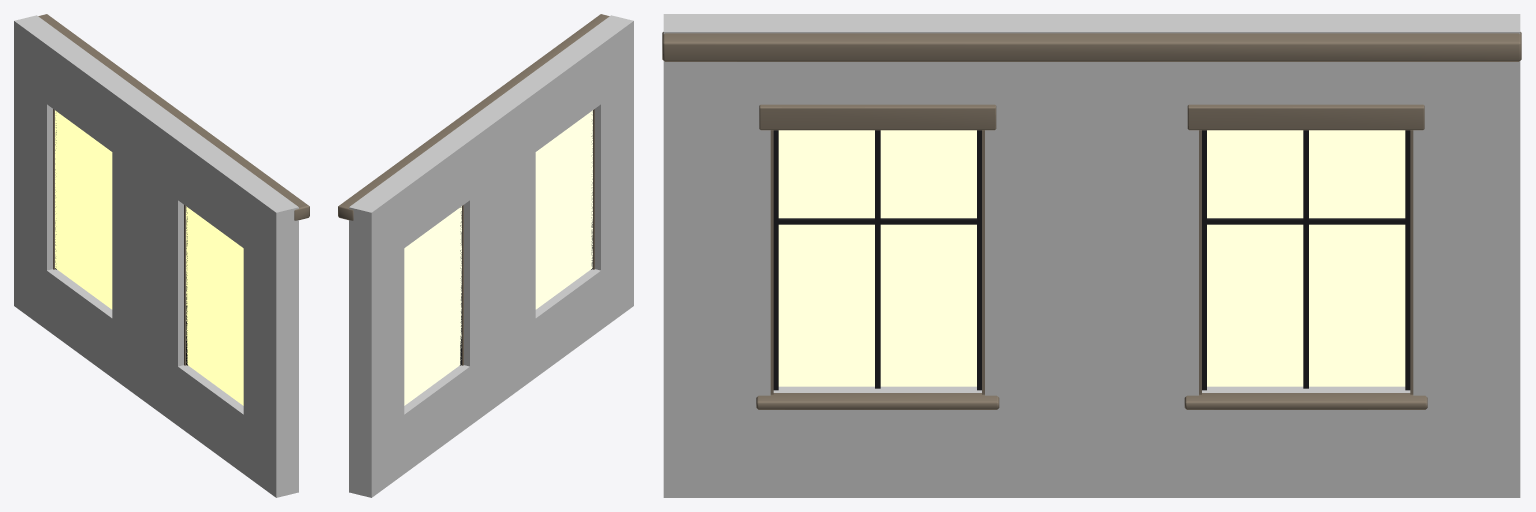
The model's file is facade_bay.glb.
The picture shows the model from 3 angles, left to right: view 1: azimuth 30°, elevation 25°; view 2: azimuth 150°, elevation 25°; view 3: azimuth 270°, elevation 25°; orthographic projection. The views are drawn at different scales.
Parts seen in each view (by area): view 1: Mesh_WallAbove, Mesh_WallBelow, Mesh_PierM, Mesh_PierR, Mesh_PaneL, Mesh_PaneR, Mesh_PierL, Mesh_Cornice; view 2: Mesh_WallAbove, Mesh_WallBelow, Mesh_PierM, Mesh_PierL, Mesh_PaneR, Mesh_PaneL, Mesh_PierR, Mesh_Cornice; view 3: Mesh_WallBelow, Mesh_WallAbove, Mesh_PierM, Mesh_PaneL, Mesh_PaneR, Mesh_PierL, Mesh_PierR, Mesh_Cornice, Mesh_LintelL, Mesh_LintelR, Mesh_SillL, Mesh_SillR (+10 smaller).
Boxes of the visible parts, left/top/right/bottom form: Mesh_WallAbove: left=14, top=15, right=298, bottom=271; Mesh_WallBelow: left=14, top=247, right=298, bottom=497; Mesh_PierM: left=112, top=152, right=183, bottom=366; Mesh_PierR: left=243, top=248, right=298, bottom=438; Mesh_PaneL: left=55, top=110, right=112, bottom=309; Mesh_PaneR: left=186, top=206, right=243, bottom=405; Mesh_PierL: left=14, top=80, right=52, bottom=270; Mesh_Cornice: left=38, top=14, right=309, bottom=220; Mesh_WallAbove: left=349, top=15, right=633, bottom=271; Mesh_WallBelow: left=349, top=247, right=633, bottom=497; Mesh_PierM: left=464, top=152, right=535, bottom=366; Mesh_PierL: left=349, top=248, right=404, bottom=438; Mesh_PaneR: left=535, top=110, right=592, bottom=309; Mesh_PaneL: left=404, top=206, right=461, bottom=405; Mesh_PierR: left=595, top=80, right=633, bottom=270; Mesh_Cornice: left=338, top=14, right=609, bottom=220; Mesh_WallBelow: left=663, top=386, right=1520, bottom=497; Mesh_WallAbove: left=663, top=14, right=1520, bottom=128; Mesh_PierM: left=985, top=129, right=1198, bottom=400; Mesh_PaneL: left=1207, top=130, right=1405, bottom=386; Mesh_PaneR: left=778, top=130, right=976, bottom=386; Mesh_PierL: left=1413, top=129, right=1520, bottom=400; Mesh_PierR: left=663, top=129, right=770, bottom=400; Mesh_Cornice: left=662, top=32, right=1521, bottom=61; Mesh_LintelL: left=1187, top=104, right=1424, bottom=130; Mesh_LintelR: left=759, top=104, right=996, bottom=130; Mesh_SillL: left=1184, top=393, right=1427, bottom=409; Mesh_SillR: left=756, top=393, right=999, bottom=409.
Bounding box in the file's own units: 0.45 × 3.6 × 6.02.
